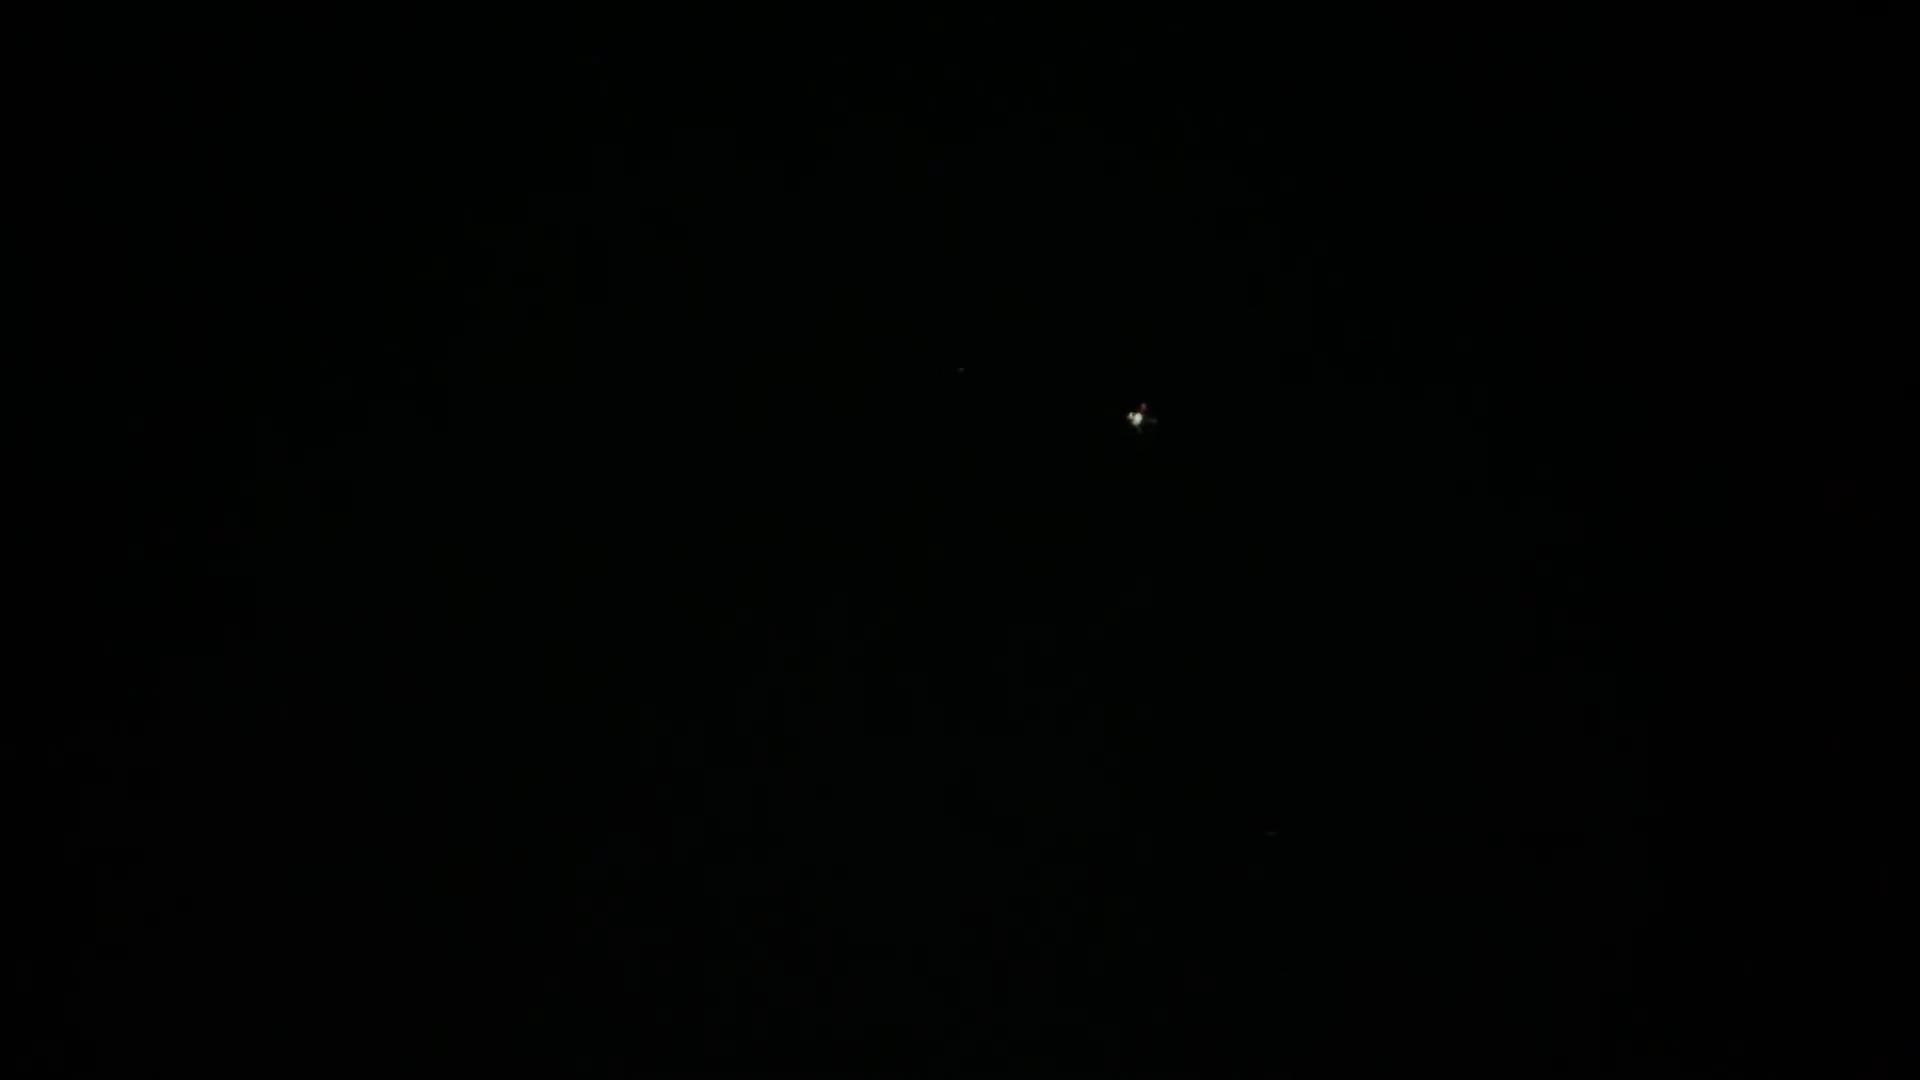Plane: (1116, 389, 1164, 451)
